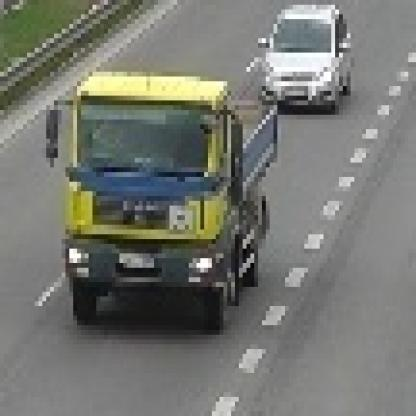truck: (40, 68, 279, 326)
